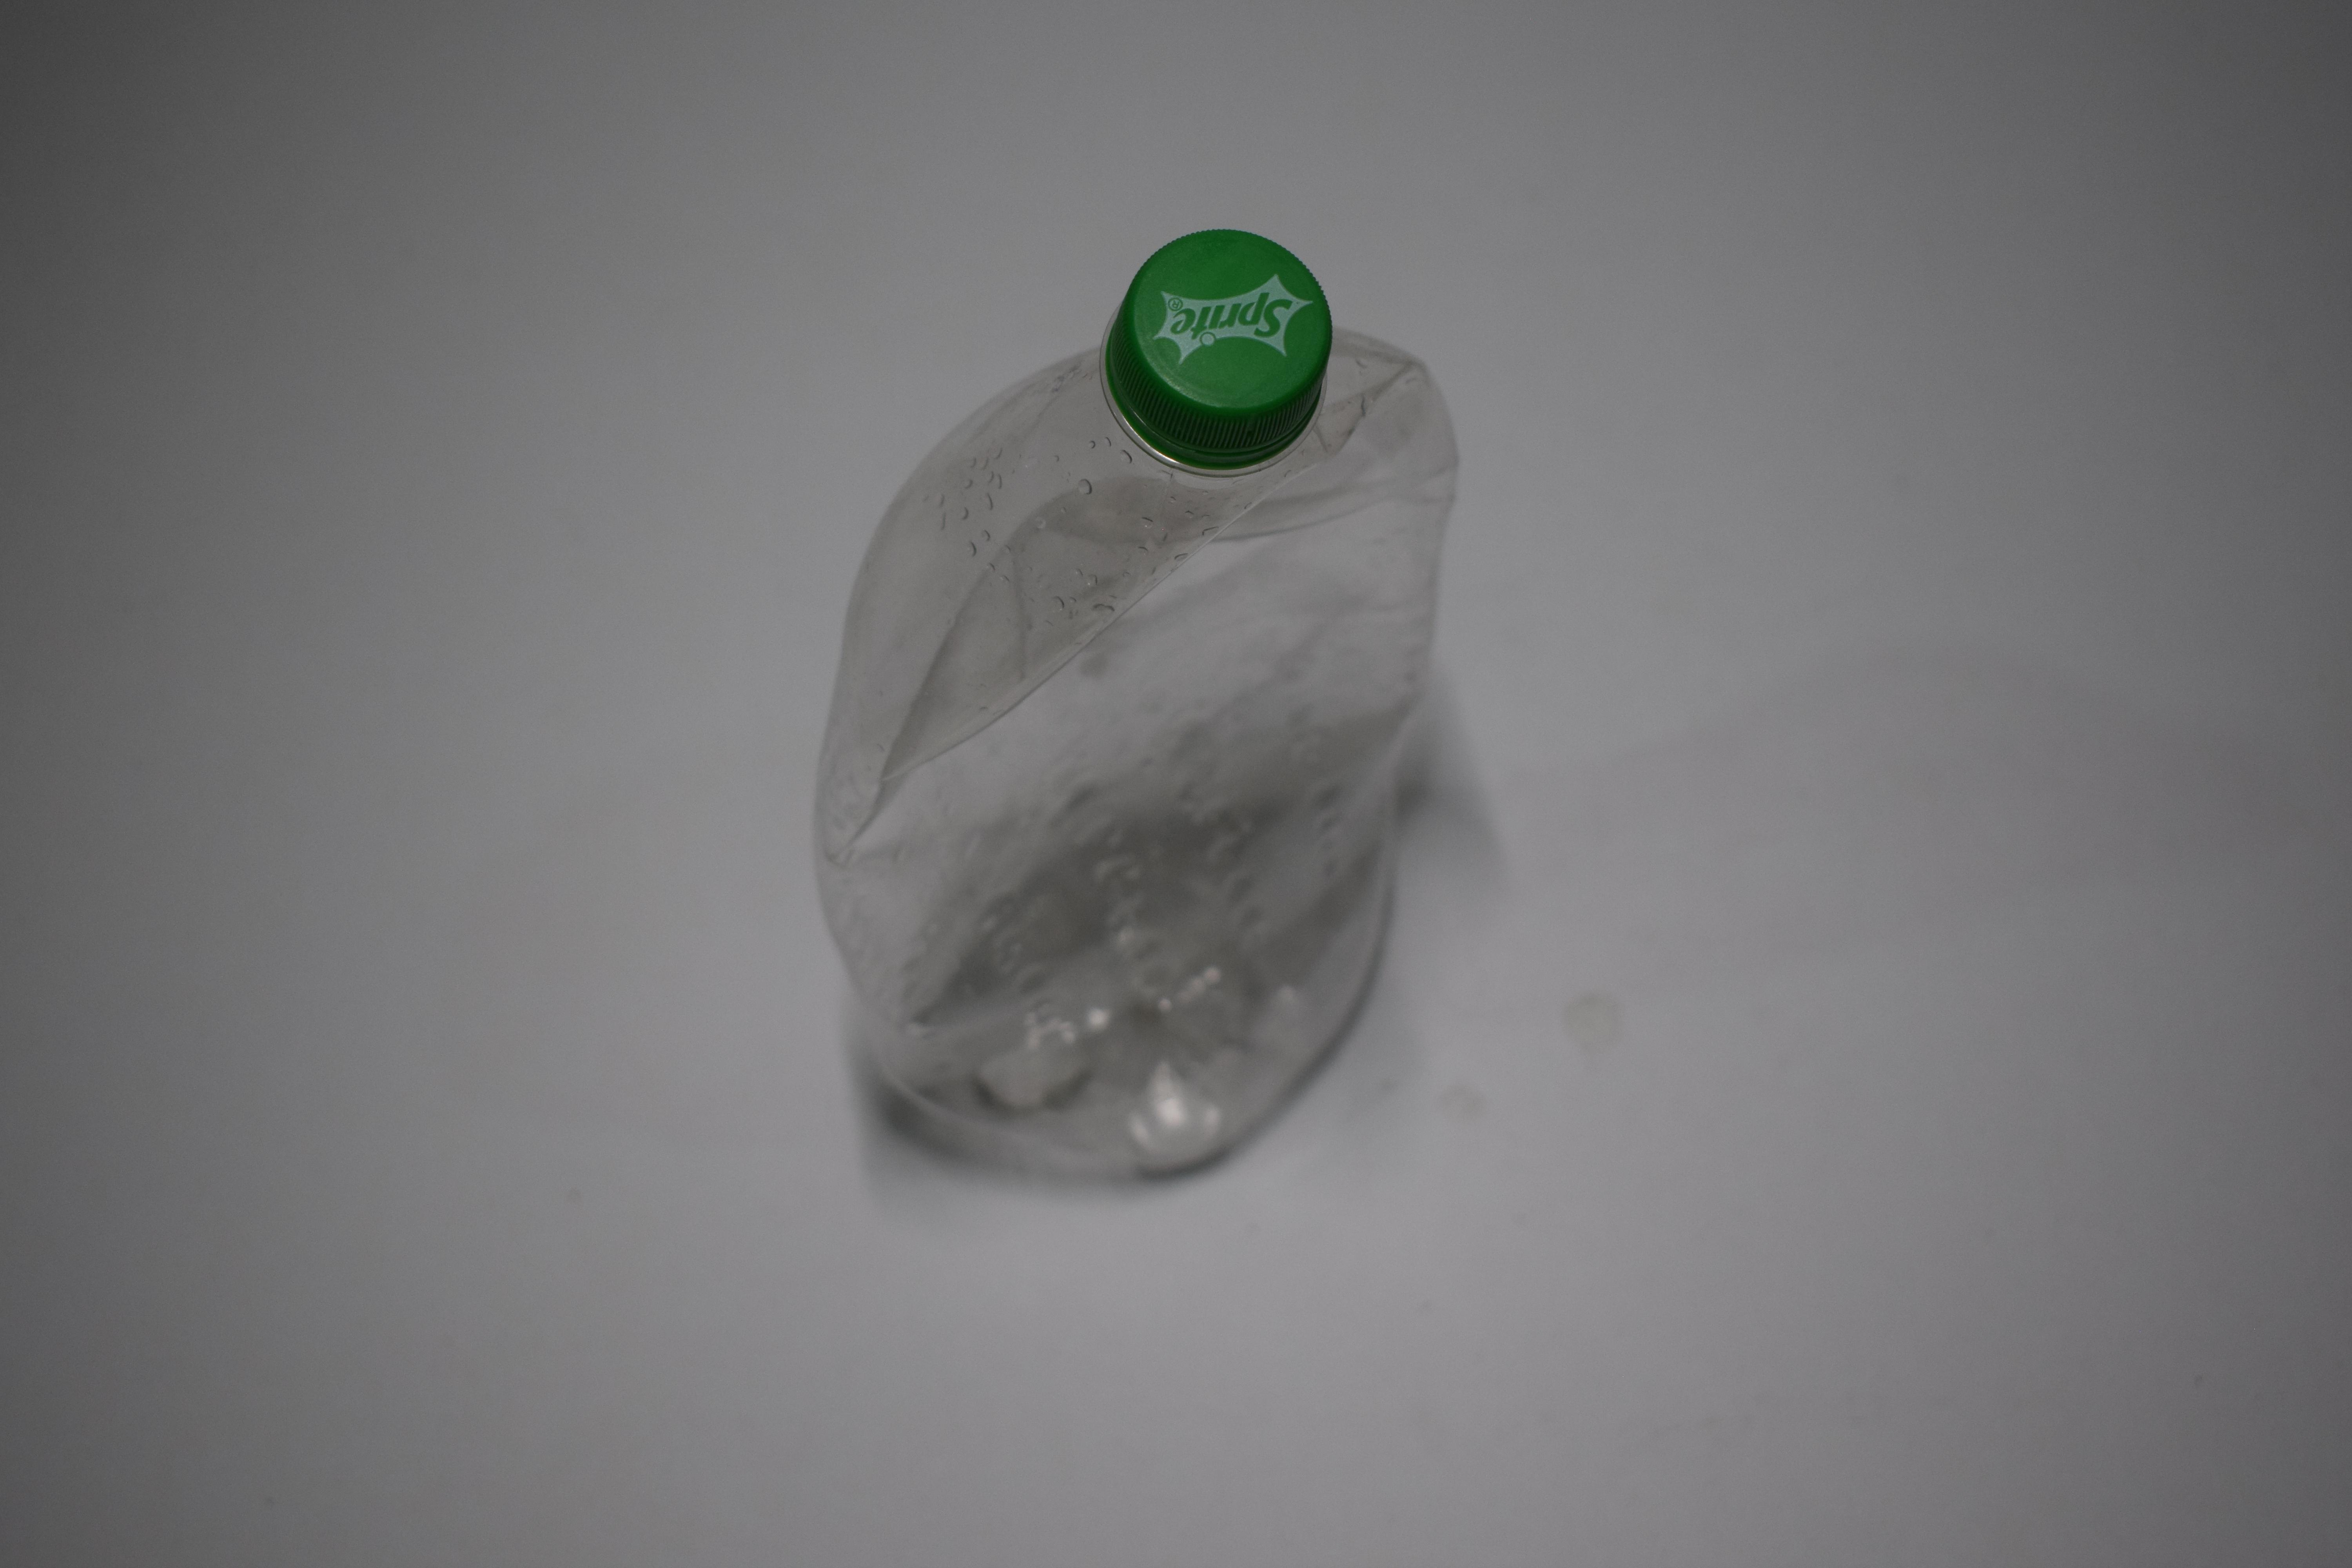bottle: (807, 149, 1467, 1106)
